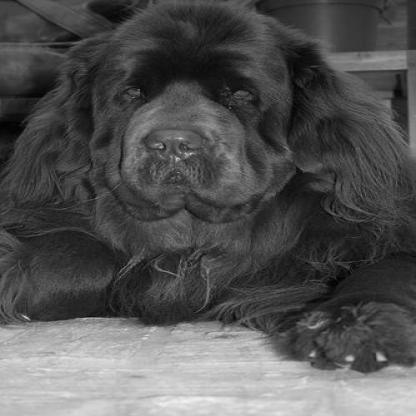Newfoundland: (0, 0, 412, 373)
